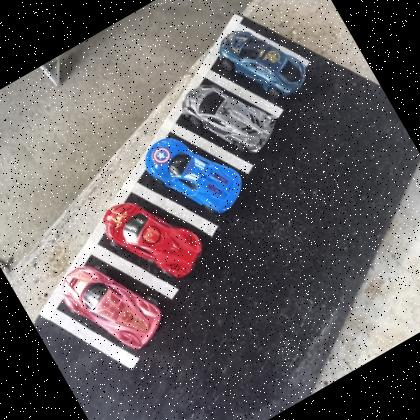Car: (53, 241, 172, 368), (94, 176, 212, 300), (136, 112, 252, 234), (174, 60, 285, 174), (210, 7, 314, 116)
